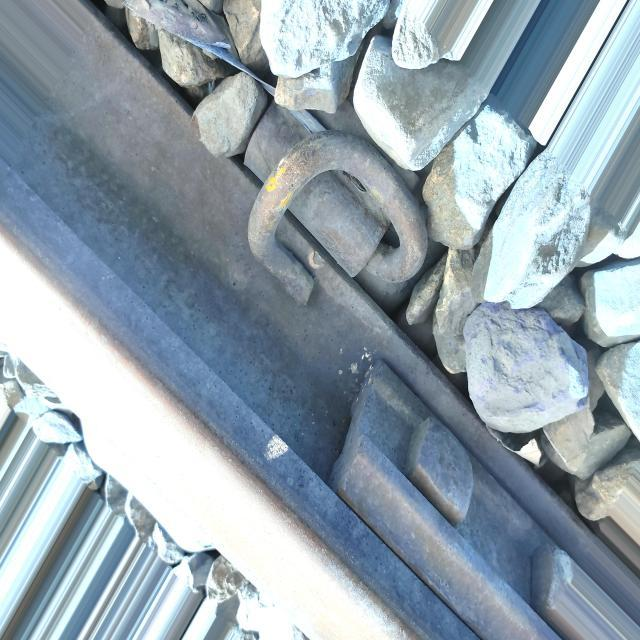Good Fasteners: (193, 71, 427, 362)
